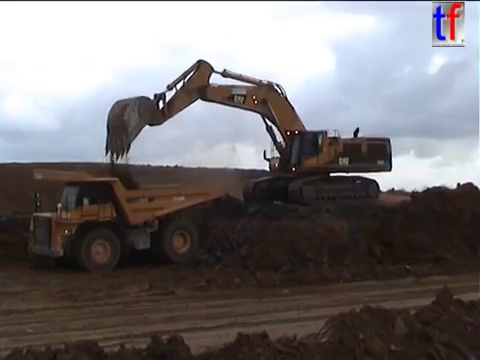excavator: (102, 57, 395, 210)
truck: (22, 166, 226, 274)
